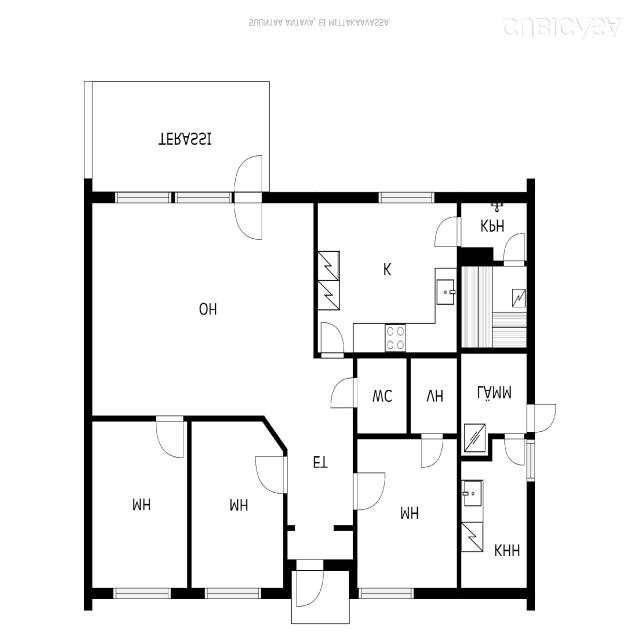door: (230, 149, 268, 247), (320, 318, 356, 414), (250, 448, 290, 498), (152, 414, 188, 463), (351, 467, 390, 512), (295, 559, 326, 610), (316, 317, 348, 360), (327, 374, 361, 413), (432, 214, 464, 252), (530, 398, 560, 436), (418, 432, 446, 472), (501, 228, 527, 270), (502, 433, 527, 469)
window: (109, 185, 235, 206), (105, 580, 179, 605), (198, 582, 268, 604), (354, 582, 422, 604), (374, 187, 440, 205), (167, 188, 232, 205), (111, 188, 178, 203), (526, 439, 536, 485)
zone: (83, 198, 317, 418), (315, 199, 459, 354), (88, 418, 191, 592), (189, 418, 287, 592), (353, 436, 460, 595), (283, 414, 352, 561), (460, 448, 530, 592), (460, 349, 531, 438), (459, 262, 530, 350), (457, 200, 531, 261), (355, 357, 408, 435), (410, 357, 460, 434)
